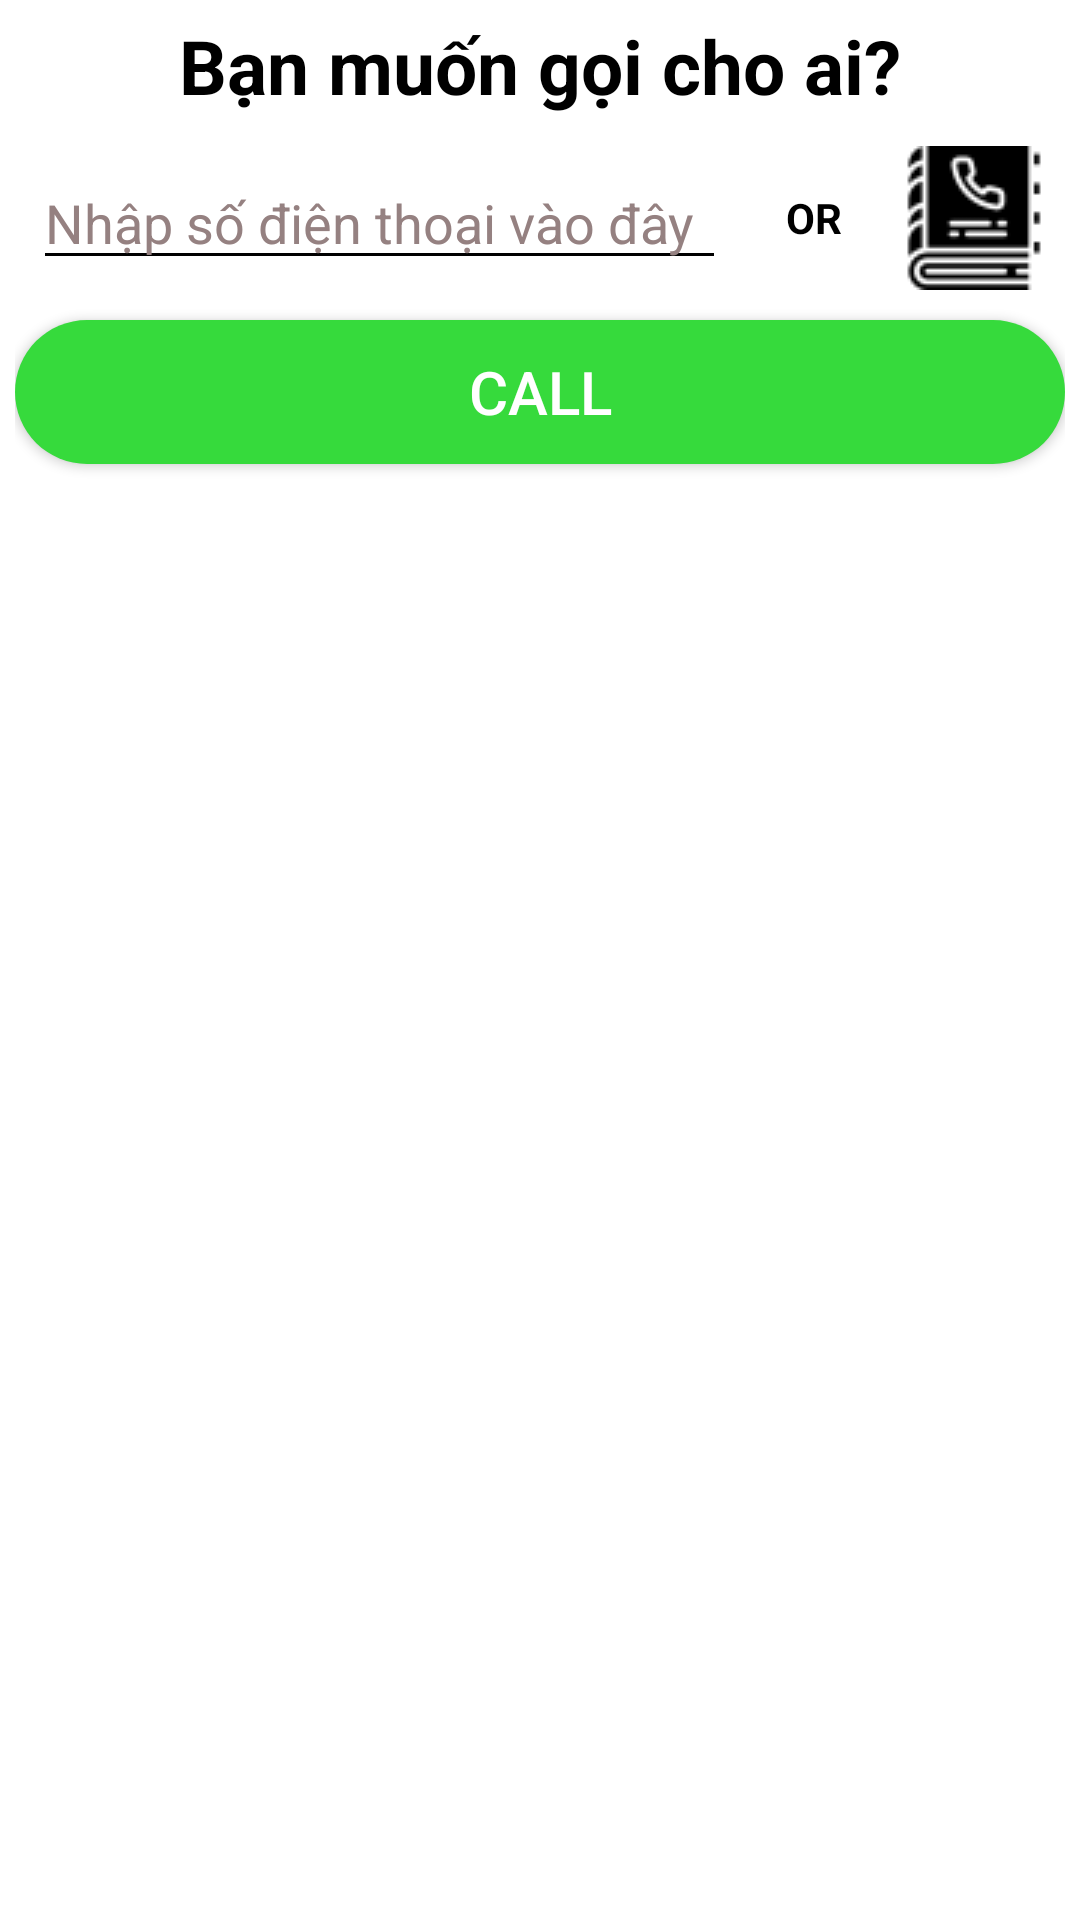

Named icons in this screenshot (1080 x 1920) and their bounding boxes, bbox(x1, y1, x2, y2):
phonebook: bbox(907, 146, 1041, 290)
